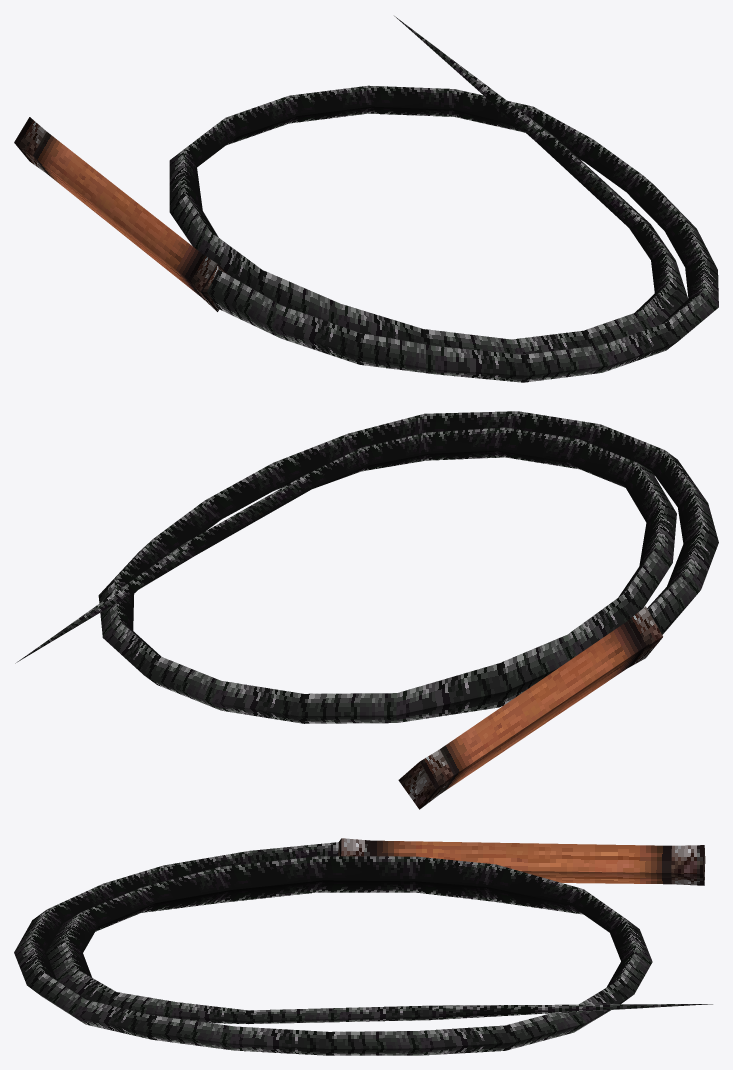
The model's file is bullwhip.fbx.
The picture shows the model from 3 angles, top to bottom: view 1: azimuth 30°, elevation 25°; view 2: azimuth 150°, elevation 25°; view 3: azimuth 270°, elevation 25°; orthographic projection. The views are drawn at different scales.
Parts seen in each view (by area): view 1: mesh_0; view 2: mesh_0; view 3: mesh_0.
Part boxes in pixels (x1=…): mesh_0: x1=14, y1=16, x2=718, y2=382; mesh_0: x1=15, y1=411, x2=718, y2=809; mesh_0: x1=14, y1=838, x2=712, y2=1055.
Size of the model in its own units: 51.16 by 5.8 by 76.8.
Materials: 1 (1 with a texture image).
